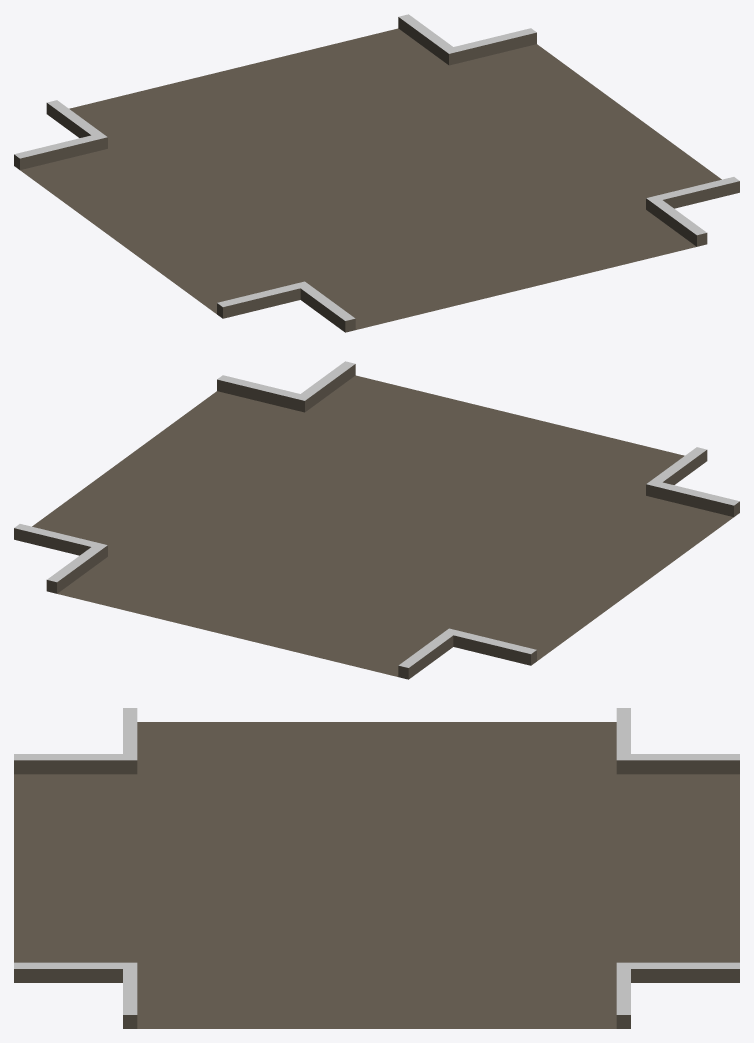
Rendered from cross.edge.fbx.
The picture shows the model from 3 angles, top to bottom: view 1: azimuth 30°, elevation 25°; view 2: azimuth 150°, elevation 25°; view 3: azimuth 270°, elevation 25°; orthographic projection. The views are drawn at different scales.
Parts seen in each view (by area): view 1: cross.edge; view 2: cross.edge; view 3: cross.edge.
Part boxes in pixels (x1,y1,x2,y2): cross.edge: (14,14,739,332); cross.edge: (14,361,739,679); cross.edge: (14,708,739,1028).
Size of the model in its own units: 3500 by 75 by 3500.
